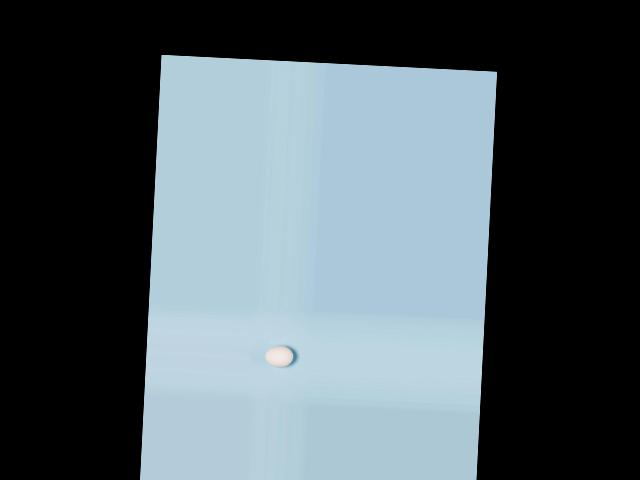egg: (264, 345, 294, 367)
